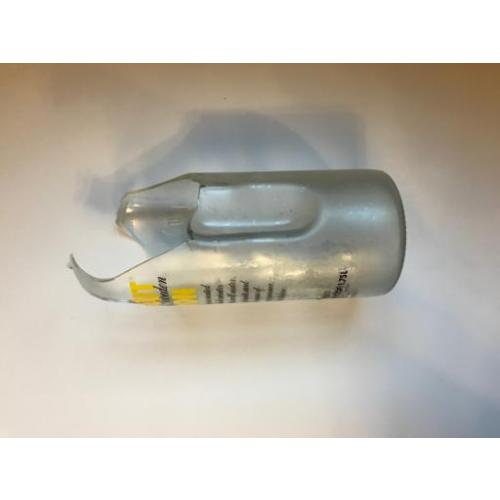glass: (75, 169, 407, 307)
